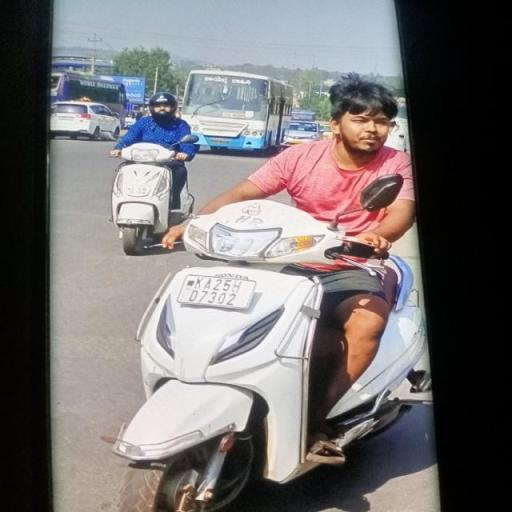bike: (103, 77, 426, 512)
numberplate: (172, 267, 258, 322)
withouthelmet: (330, 83, 392, 150)
